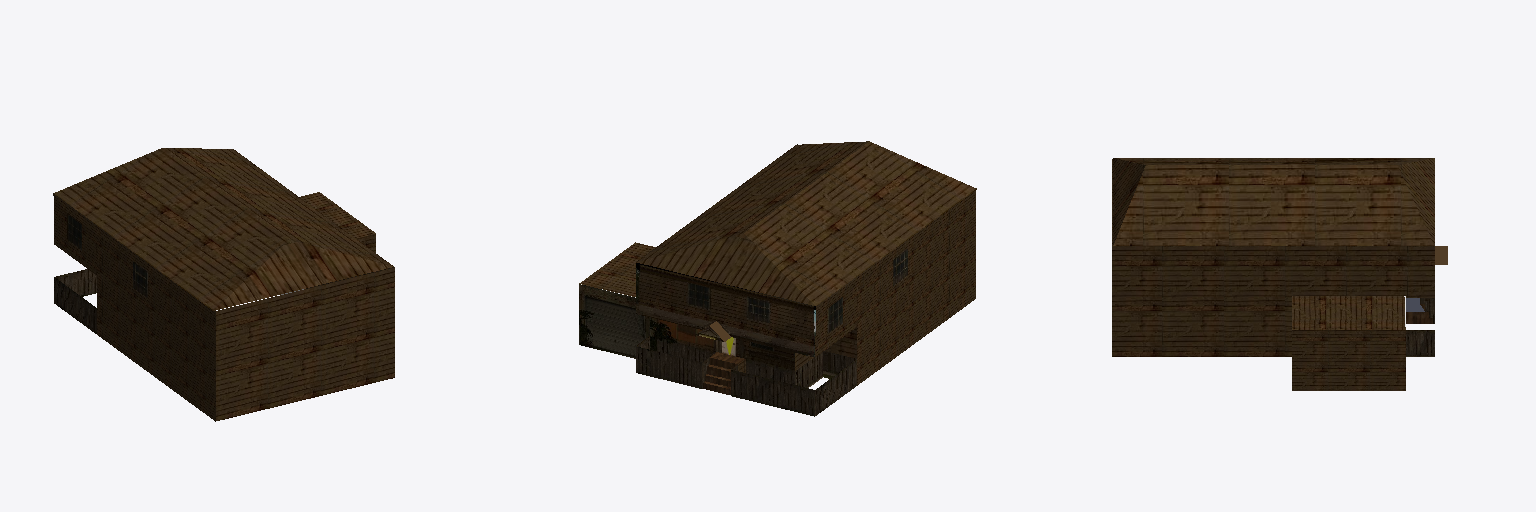
The picture shows the model from 3 angles: view 1: azimuth 30°, elevation 25°; view 2: azimuth 150°, elevation 25°; view 3: azimuth 270°, elevation 25°; orthographic projection.
Parts seen in each view (by area): view 1: Mesh; view 2: Mesh; view 3: Mesh.
Part boxes in pixels (x1,y1,x2,y2): Mesh: (53, 148, 394, 421); Mesh: (579, 141, 976, 416); Mesh: (1112, 158, 1447, 390).
Bounding box in the file's own units: 6.64 × 3.71 × 7.65.
Materials: 6 (3 with a texture image).